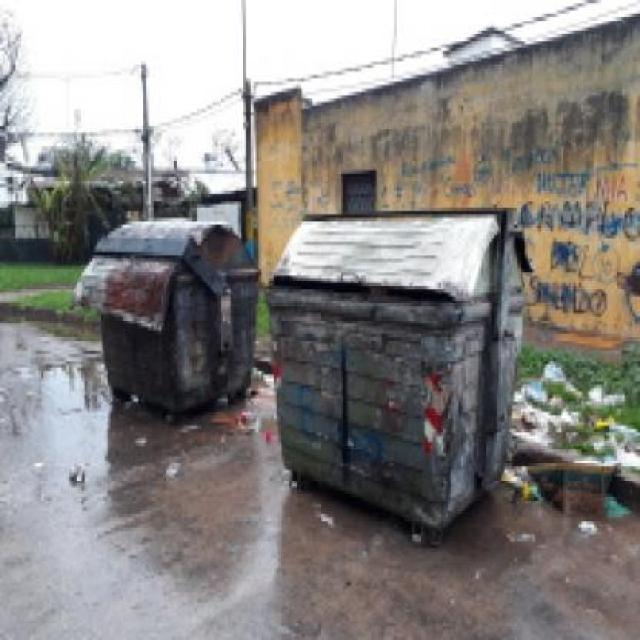garbage: (516, 359, 636, 502)
